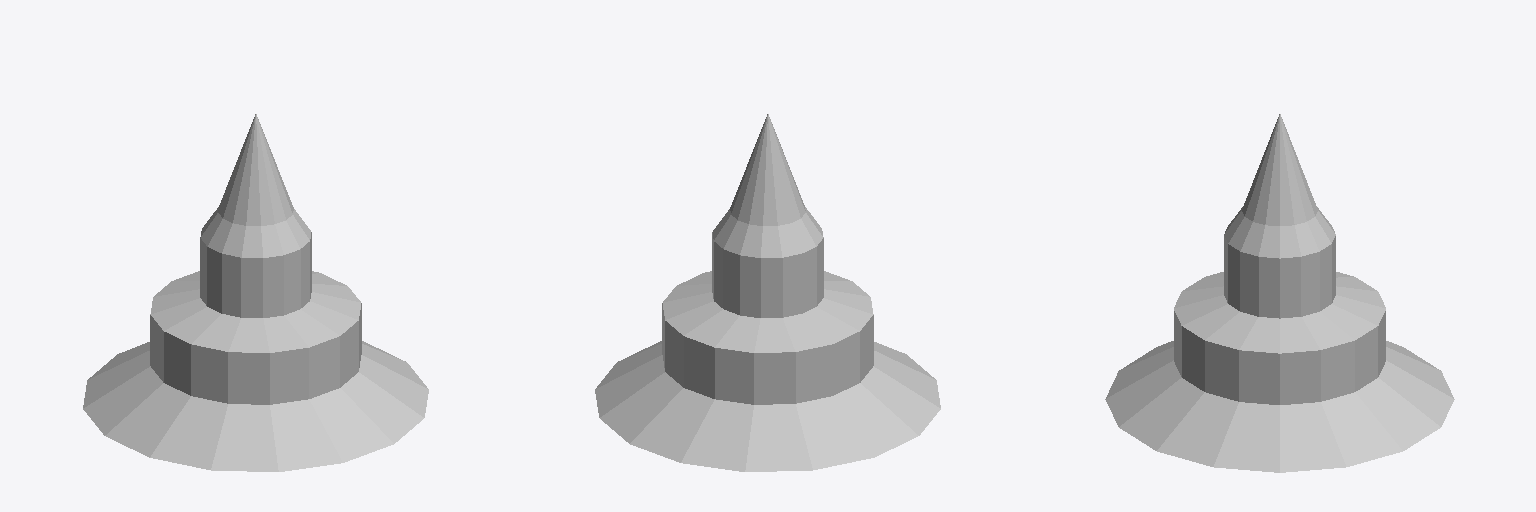
Rendered from symbol_b_2.obj.
3 renders of one model, left to right at view 1: azimuth 30°, elevation 25°; view 2: azimuth 150°, elevation 25°; view 3: azimuth 270°, elevation 25°, orthographic.
Parts seen in each view (by area): view 1: UpgradeB3_Circle.002; view 2: UpgradeB3_Circle.002; view 3: UpgradeB3_Circle.002.
Boxes of the visible parts, x1=… form: UpgradeB3_Circle.002: x1=83, y1=114, x2=428, y2=471; UpgradeB3_Circle.002: x1=595, y1=114, x2=940, y2=471; UpgradeB3_Circle.002: x1=1105, y1=114, x2=1454, y2=472.
Size of the model in its own units: 2 by 1.81 by 2.